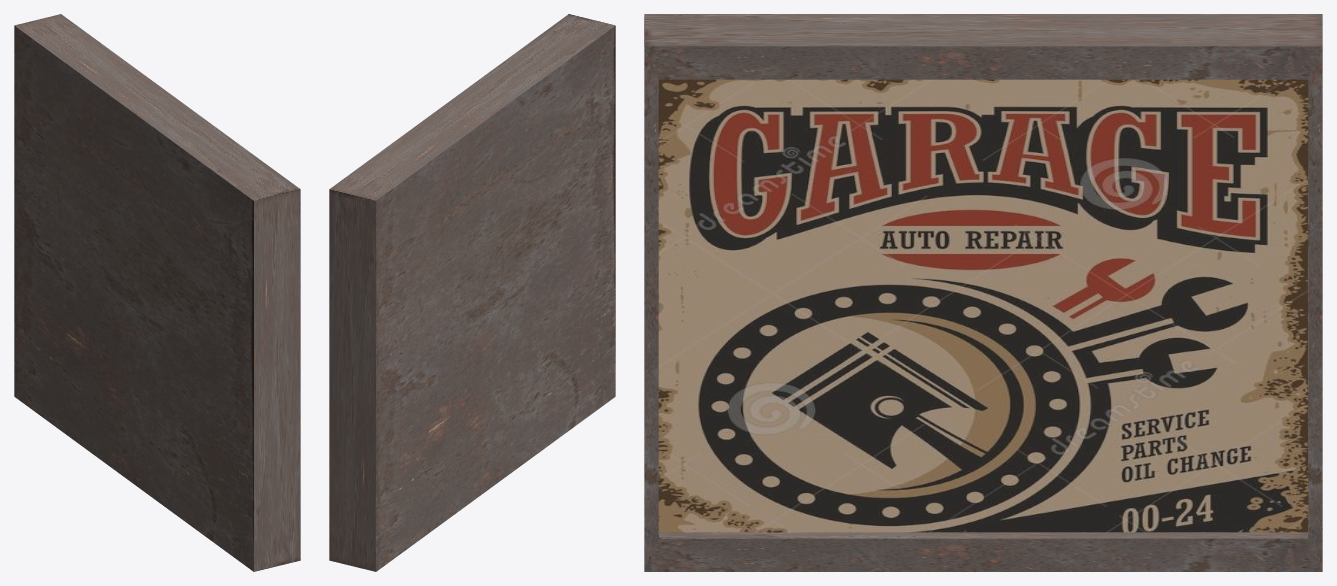
File: tableau1.fbx
3 views of the same model, side by side, from view 1: azimuth 30°, elevation 25°; view 2: azimuth 150°, elevation 25°; view 3: azimuth 270°, elevation 25° (orthographic). The views are drawn at different scales.
Visible parts, largest first — view 1: tableau1; view 2: tableau1; view 3: tableau1.
Boxes of the visible parts, left/top/right/bottom form: tableau1: left=14, top=14, right=300, bottom=571; tableau1: left=329, top=14, right=615, bottom=571; tableau1: left=644, top=14, right=1322, bottom=571.
Size of the model in its own units: 14.84 by 112 by 131.
2 materials, 2 textured.
